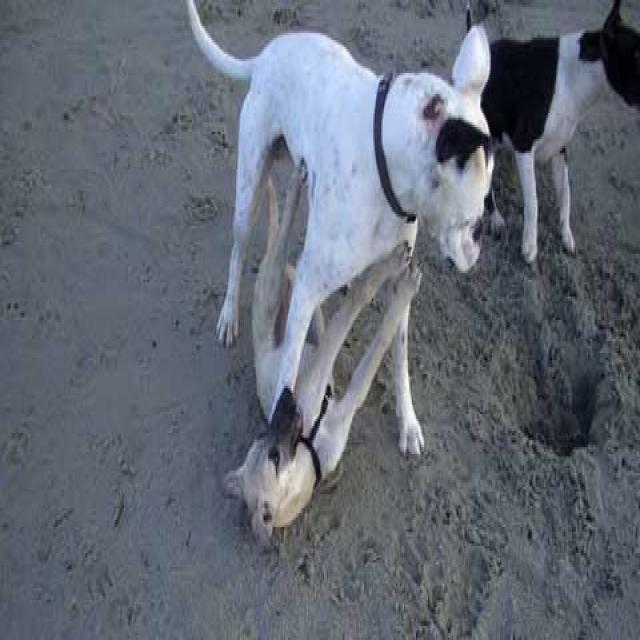dog: (185, 4, 496, 463), (220, 154, 424, 554), (481, 1, 640, 262)
